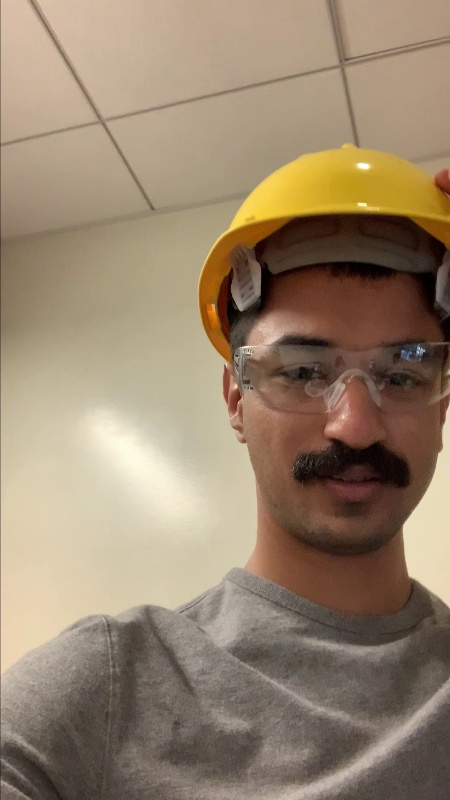glasses: (239, 335, 450, 413)
helmet: (203, 142, 450, 252)
